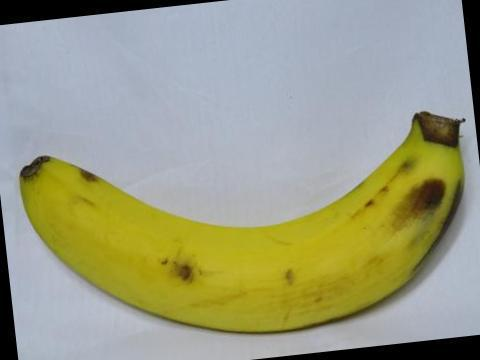freshripe: (11, 104, 477, 336)
